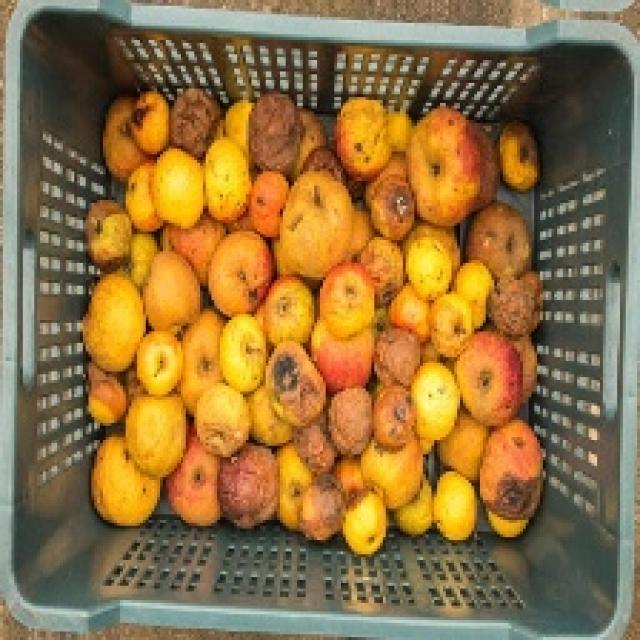rotten_apple: (482, 423, 542, 519), (268, 339, 323, 418), (468, 204, 531, 272), (248, 93, 300, 174), (222, 448, 276, 524), (334, 98, 389, 169), (489, 274, 545, 334), (84, 202, 133, 266), (344, 486, 387, 551), (500, 124, 542, 190), (171, 90, 216, 150), (372, 176, 414, 237), (330, 387, 370, 451), (302, 477, 342, 540), (374, 388, 416, 446), (374, 329, 417, 383), (87, 380, 127, 424)
